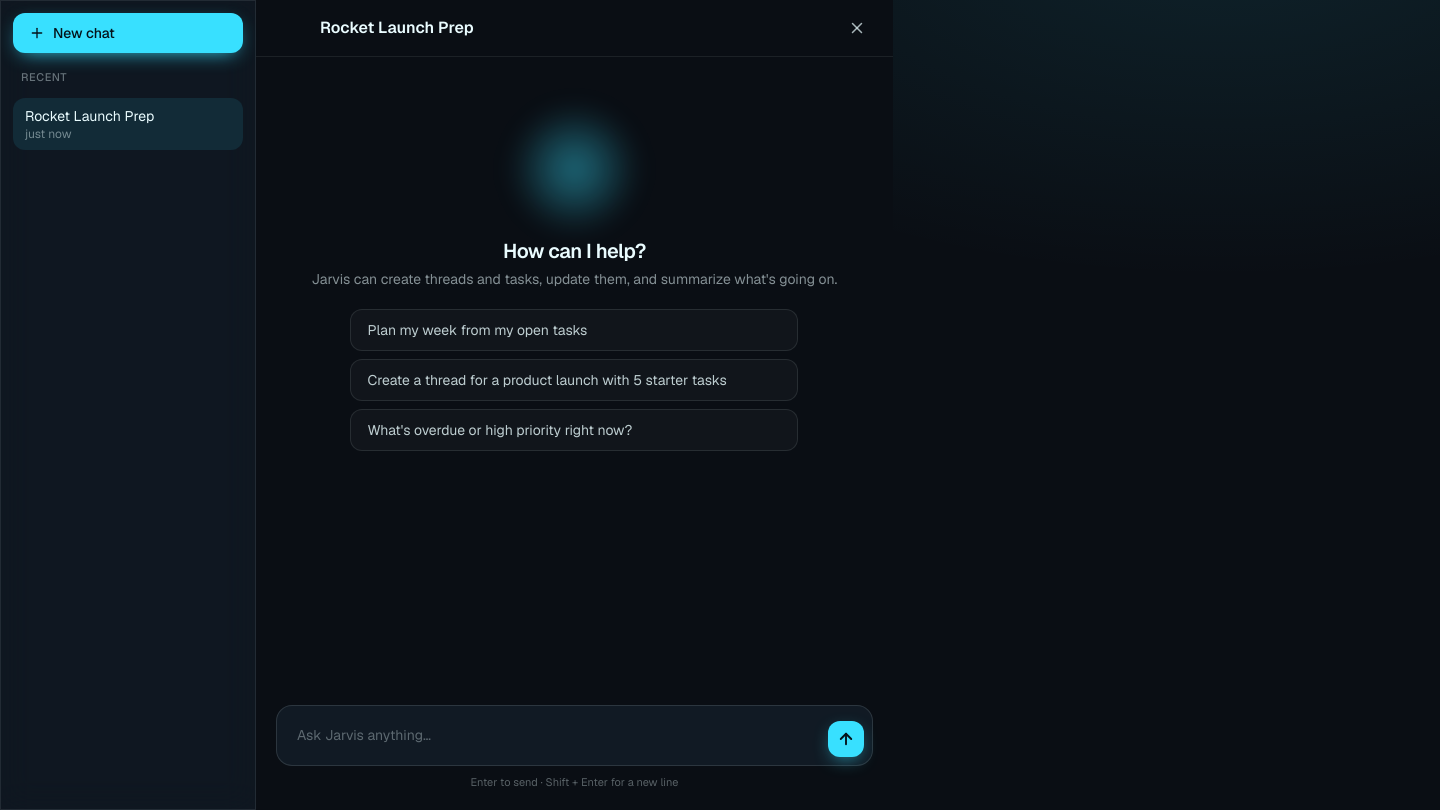
Test: JarvisWorkspace › shows an error, removes the optimistic message, and restores the typed draft when sendJarvisMessage rejects
In the text box named "Message Jarvis": [552, 735] box [285,714,820,756], type "hi"
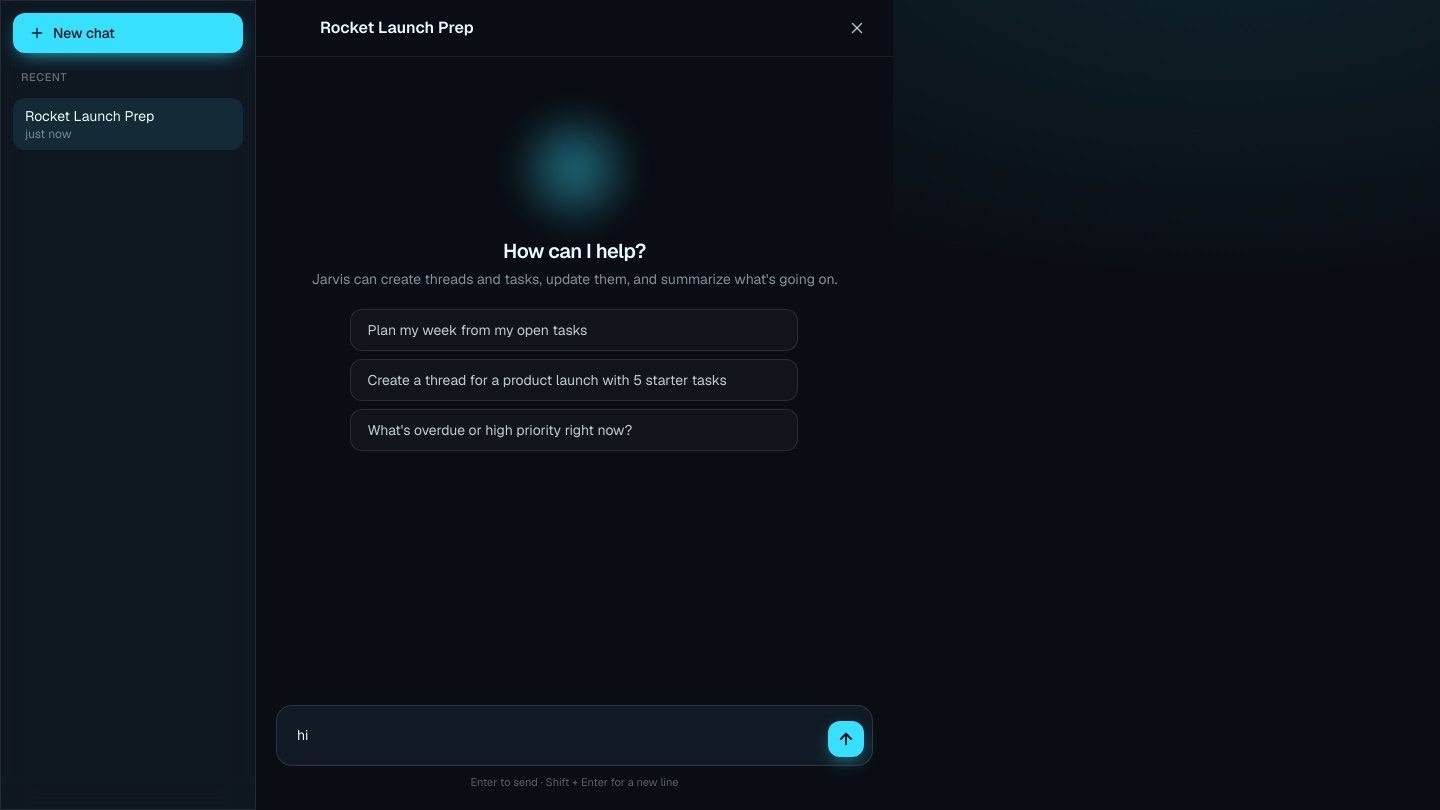
Click the button named "Send": [846, 738] box [828,720,864,756]
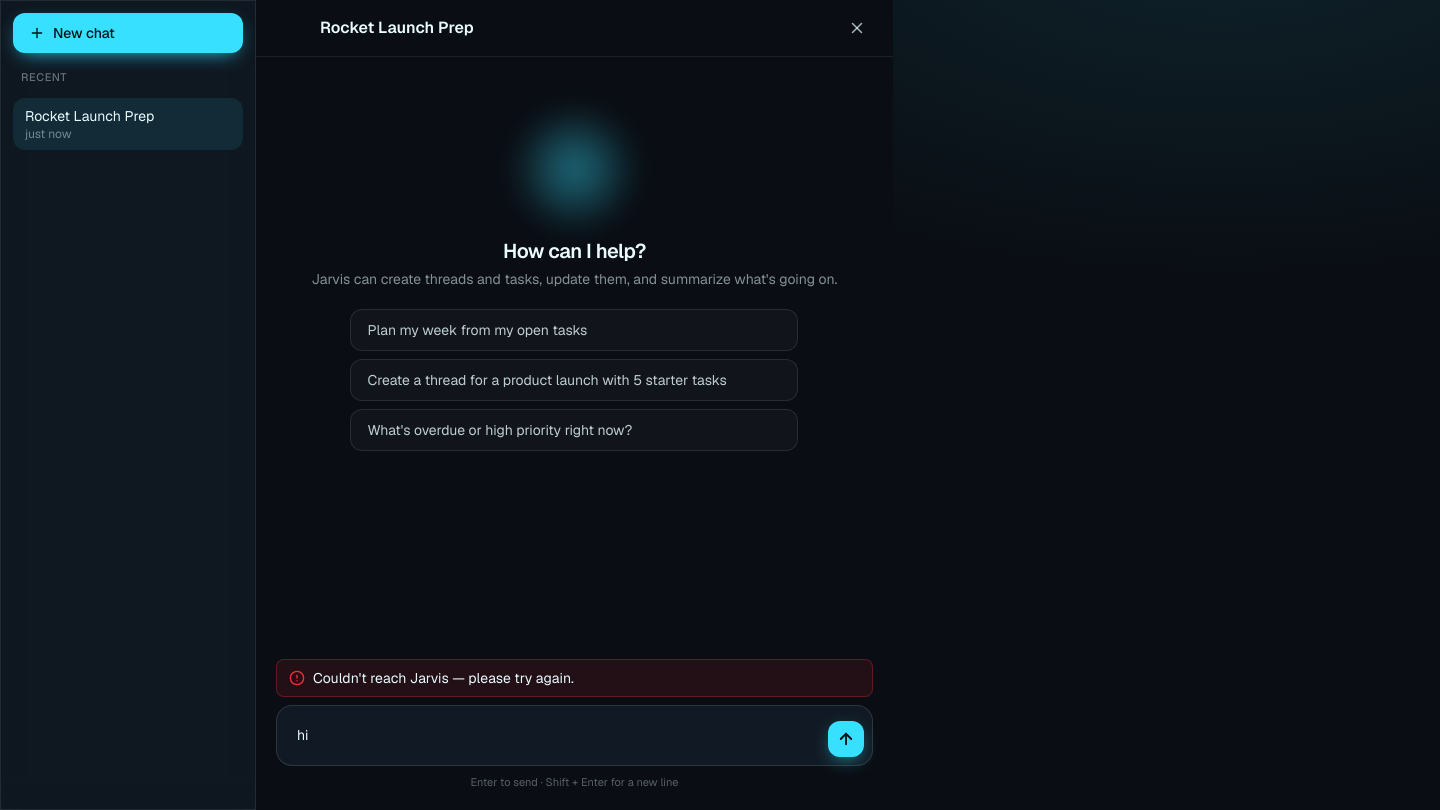
Check: the message shows "Couldn't reach Jarvis", box [313,668,574,686]
